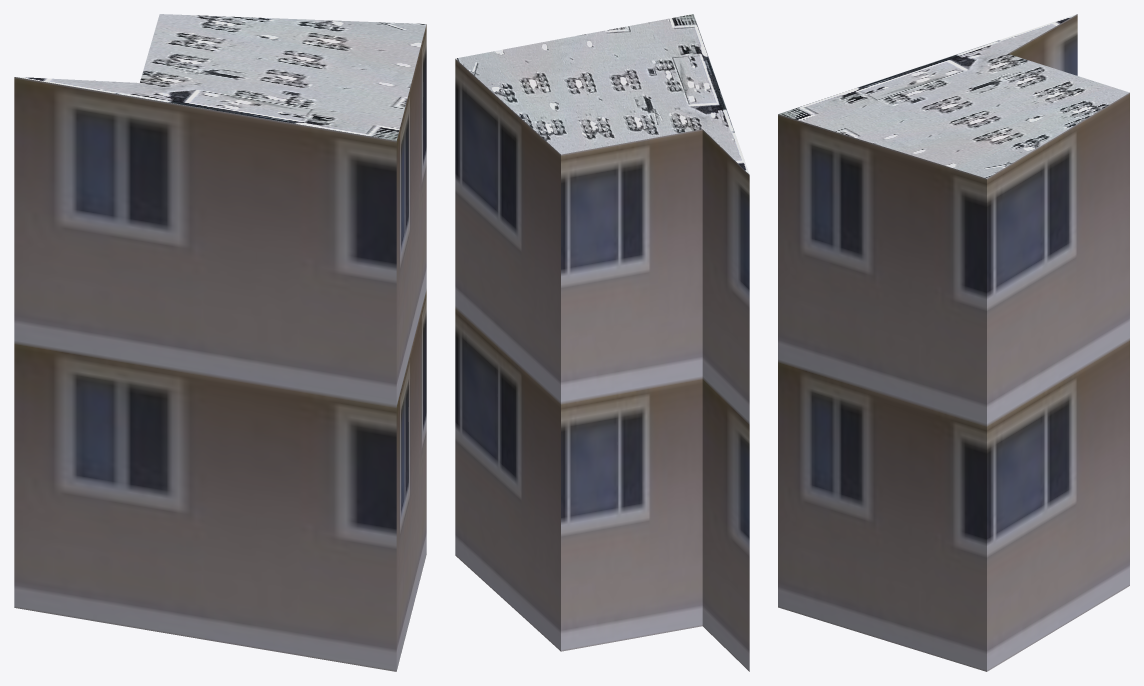
Rendered from ResTex__3581.fbx.
3 views of the same model, side by side, from view 1: azimuth 30°, elevation 25°; view 2: azimuth 150°, elevation 25°; view 3: azimuth 270°, elevation 25° (orthographic). The views are drawn at different scales.
Visible parts, largest first — view 1: CityEngineMaterial_21_m, CityEngineMaterial_m; view 2: CityEngineMaterial_21_m, CityEngineMaterial_m; view 3: CityEngineMaterial_21_m, CityEngineMaterial_m.
Boxes of the visible parts, x1,y1,x2,y2 form: CityEngineMaterial_21_m: (14,24,426,671); CityEngineMaterial_m: (16,14,426,140); CityEngineMaterial_21_m: (455,59,749,671); CityEngineMaterial_m: (455,14,748,173); CityEngineMaterial_21_m: (778,14,1129,671); CityEngineMaterial_m: (778,14,1129,178).
Size of the model in its own units: 4.29 by 6 by 3.88.
Materials: 2 (2 with a texture image).
